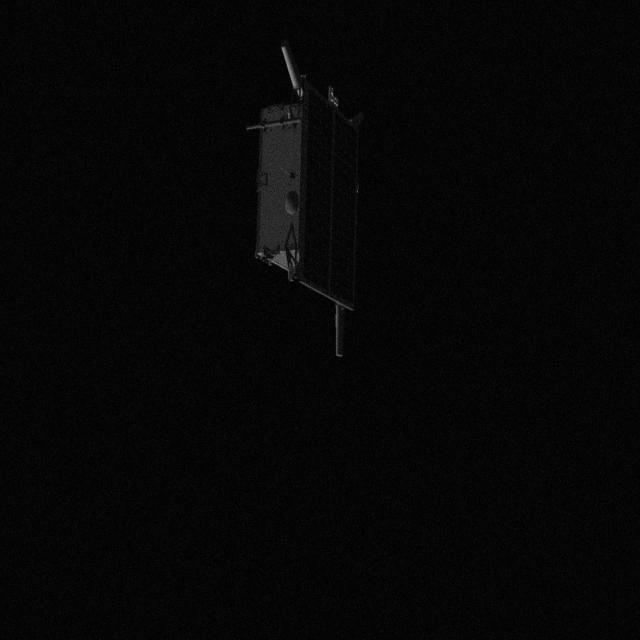satellite: (250, 38, 390, 372)
